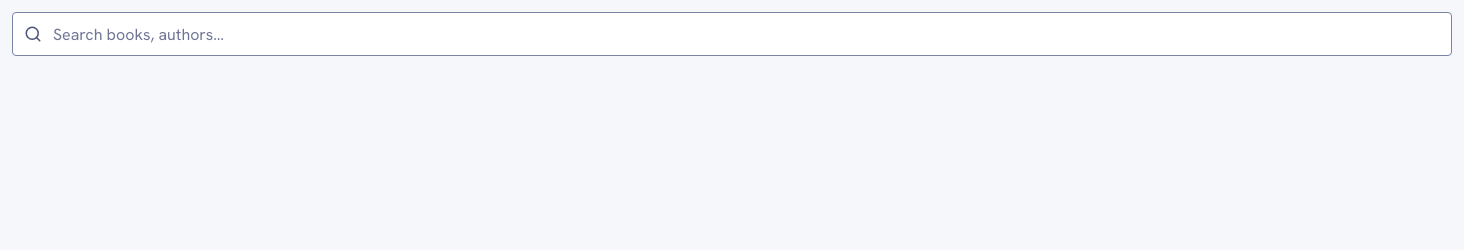
LiveSearch › bolds the matched words in the author line too
Type "aust" into the dropdown labelled "Search books" at (732, 34), box x1=12 y1=12 x2=1452 y2=56
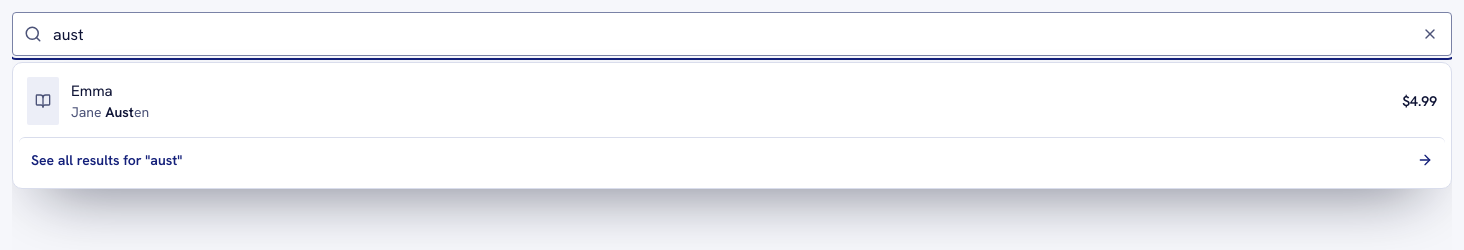
Now the text "Aust" is shown, box x1=105 y1=103 x2=134 y2=121
